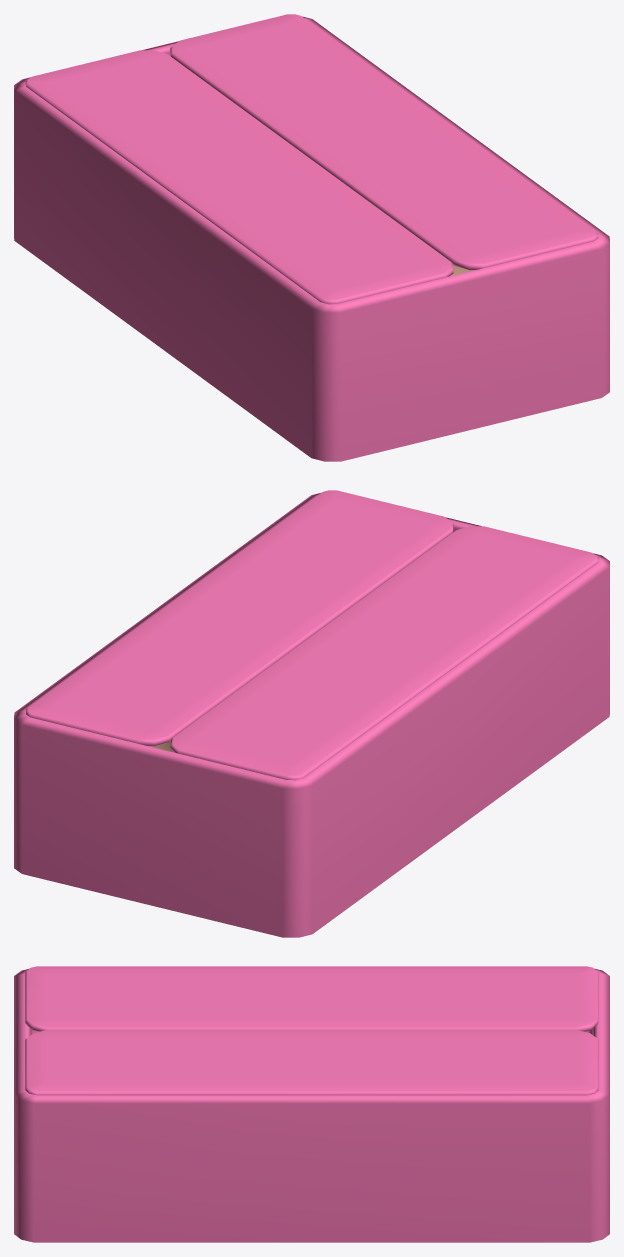
Rendered from Pink_Box.fbx.
3 views of the same model, one above another, from view 1: azimuth 30°, elevation 25°; view 2: azimuth 150°, elevation 25°; view 3: azimuth 270°, elevation 25° (orthographic). The views are drawn at different scales.
Parts seen in each view (by area): view 1: Pinkbox, Yellowbox13, Yellowbox12; view 2: Pinkbox, Yellowbox13, Yellowbox12; view 3: Pinkbox, Yellowbox13, Yellowbox12.
Part boxes in pixels (x1=…): Pinkbox: x1=14, y1=16, x2=609, y2=461; Yellowbox13: x1=170, y1=14, x2=598, y2=270; Yellowbox12: x1=25, y1=50, x2=453, y2=304; Pinkbox: x1=14, y1=493, x2=609, y2=937; Yellowbox13: x1=26, y1=490, x2=453, y2=746; Yellowbox12: x1=170, y1=526, x2=598, y2=780; Pinkbox: x1=14, y1=968, x2=609, y2=1242; Yellowbox13: x1=25, y1=1030, x2=598, y2=1095; Yellowbox12: x1=25, y1=966, x2=598, y2=1031.
Size of the model in its own units: 252 by 126 by 467.
